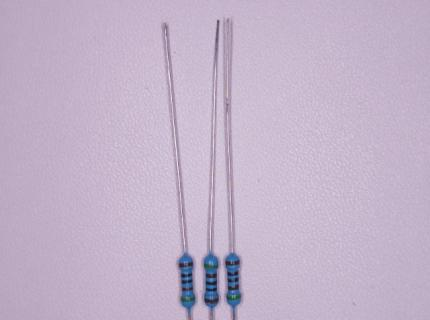Black band: (181, 273, 193, 278), (181, 279, 193, 284), (205, 280, 217, 285), (227, 271, 239, 276), (227, 277, 239, 282), (206, 288, 217, 292)
Brown band: (225, 259, 240, 266), (204, 297, 219, 303), (179, 262, 193, 268), (227, 284, 239, 291), (205, 273, 217, 278), (182, 287, 193, 291)
Green band: (226, 294, 241, 301), (180, 297, 196, 302), (204, 263, 219, 268)
